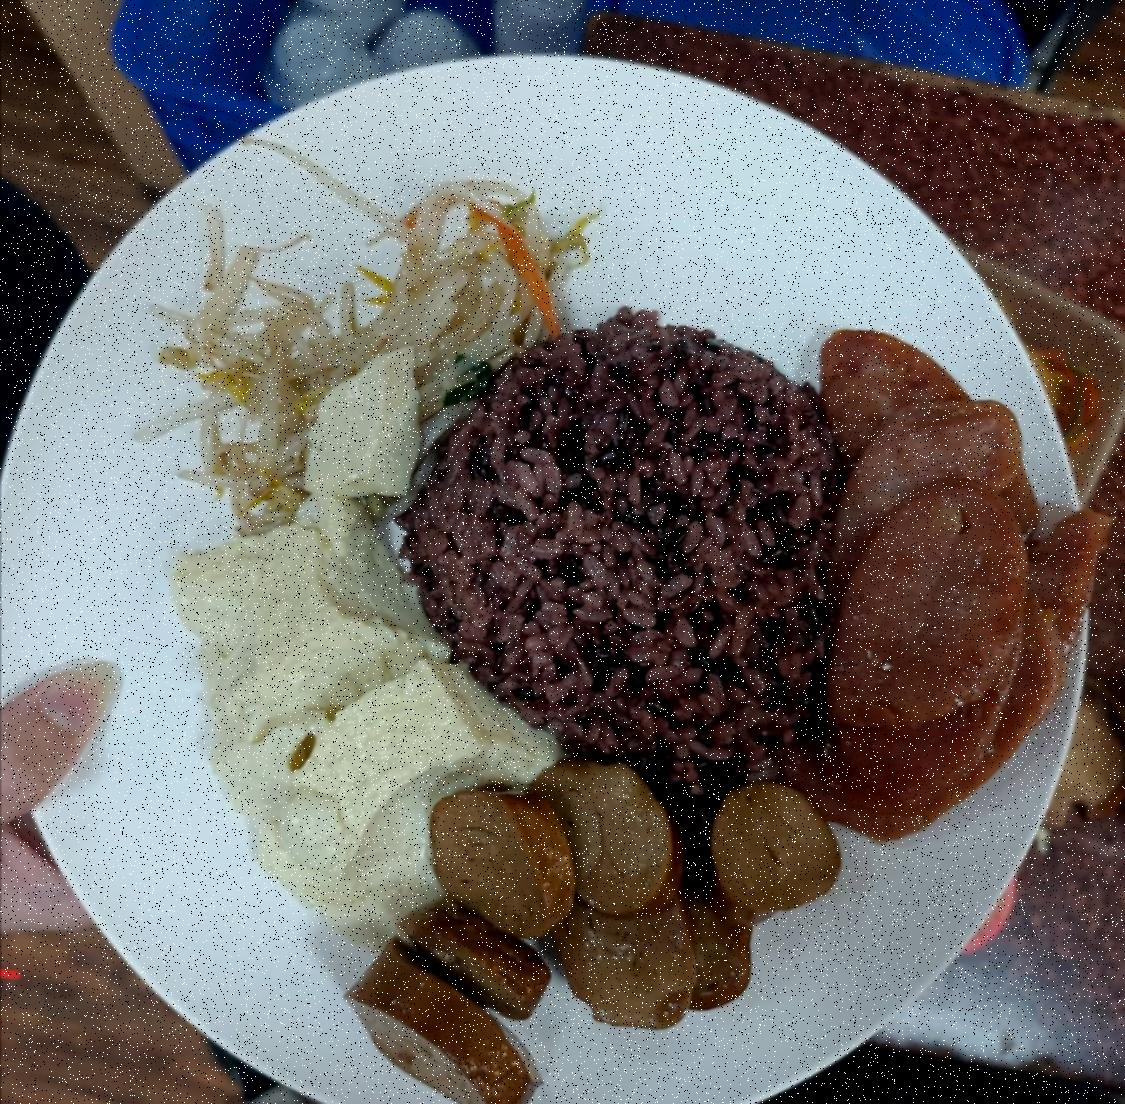big fried chicken leg: (7, 58, 1106, 1104)
braised fish: (448, 326, 840, 759)
braised fish fillet: (186, 498, 489, 908), (385, 784, 834, 1050), (177, 174, 546, 488)
braised pork: (808, 331, 1080, 822)
